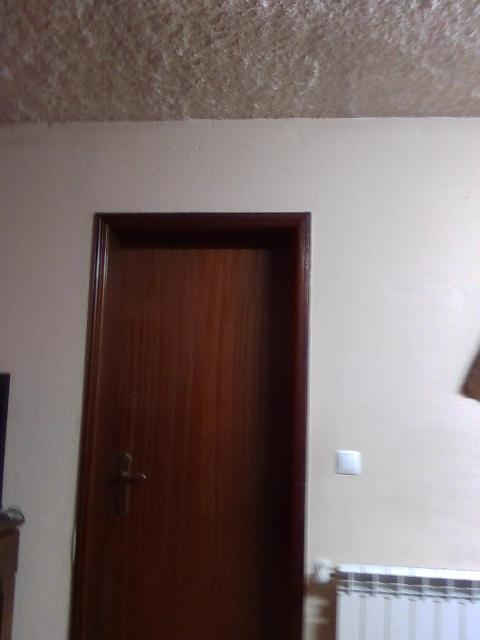door: (102, 231, 310, 639)
